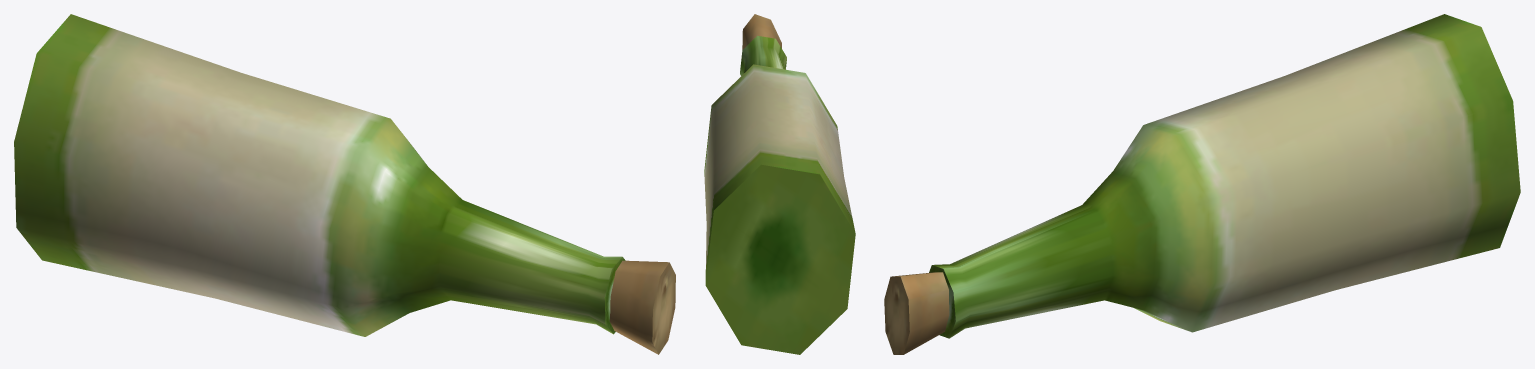
The model's file is WineBottle.fbx.
3 renders of one model, left to right at view 1: azimuth 30°, elevation 25°; view 2: azimuth 150°, elevation 25°; view 3: azimuth 270°, elevation 25°, orthographic. The views are drawn at different scales.
Parts seen in each view (by area): view 1: WineBottle; view 2: WineBottle; view 3: WineBottle.
Part boxes in pixels (x1=…): WineBottle: x1=14, y1=14, x2=675, y2=354; WineBottle: x1=704, y1=14, x2=855, y2=354; WineBottle: x1=884, y1=14, x2=1520, y2=354.
Size of the model in its own units: 1.3 by 0.7282 by 1.82.
